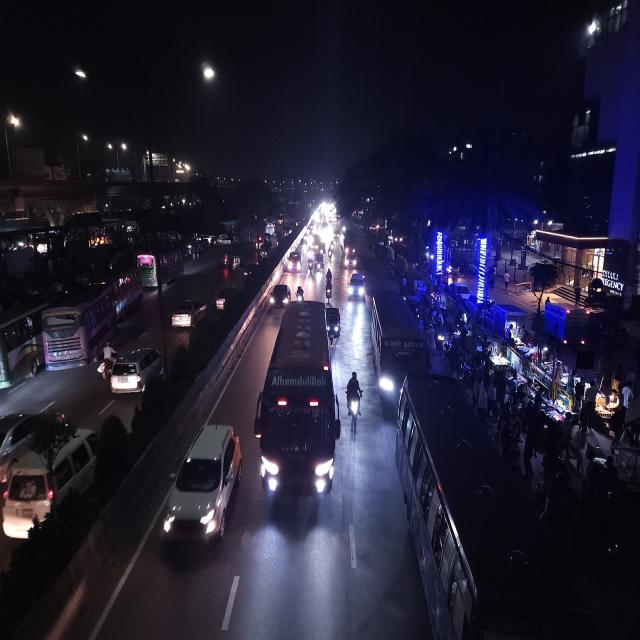bus: (395, 373, 629, 640), (254, 298, 340, 520), (41, 278, 121, 375), (367, 288, 426, 414), (0, 296, 45, 393), (136, 244, 184, 291), (342, 229, 358, 269)
car: (1, 417, 101, 545), (159, 420, 243, 560), (0, 400, 70, 486), (108, 343, 164, 398), (170, 296, 208, 333), (214, 284, 241, 316), (268, 281, 291, 310), (347, 268, 366, 302), (285, 248, 303, 277)
cng: (326, 303, 342, 344), (231, 252, 242, 272)
motorcycle: (344, 367, 364, 432), (96, 340, 116, 380), (324, 267, 334, 301), (295, 283, 305, 302), (307, 258, 315, 277)
